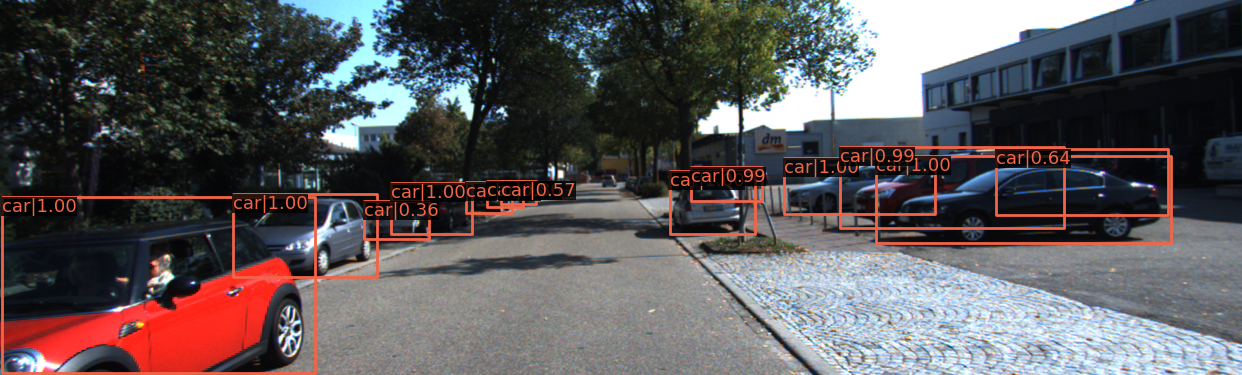car: (1, 218, 309, 375), (889, 163, 1172, 244), (848, 145, 1062, 229), (228, 197, 376, 281), (784, 163, 934, 216), (1086, 149, 1223, 193), (1038, 151, 1168, 187), (670, 180, 746, 238), (401, 185, 472, 235), (465, 183, 510, 215)
